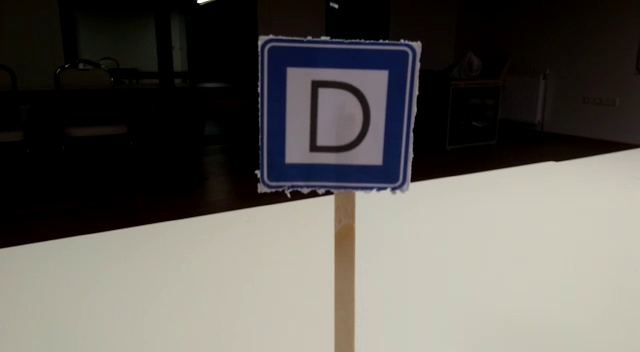durak: (261, 42, 416, 189)
